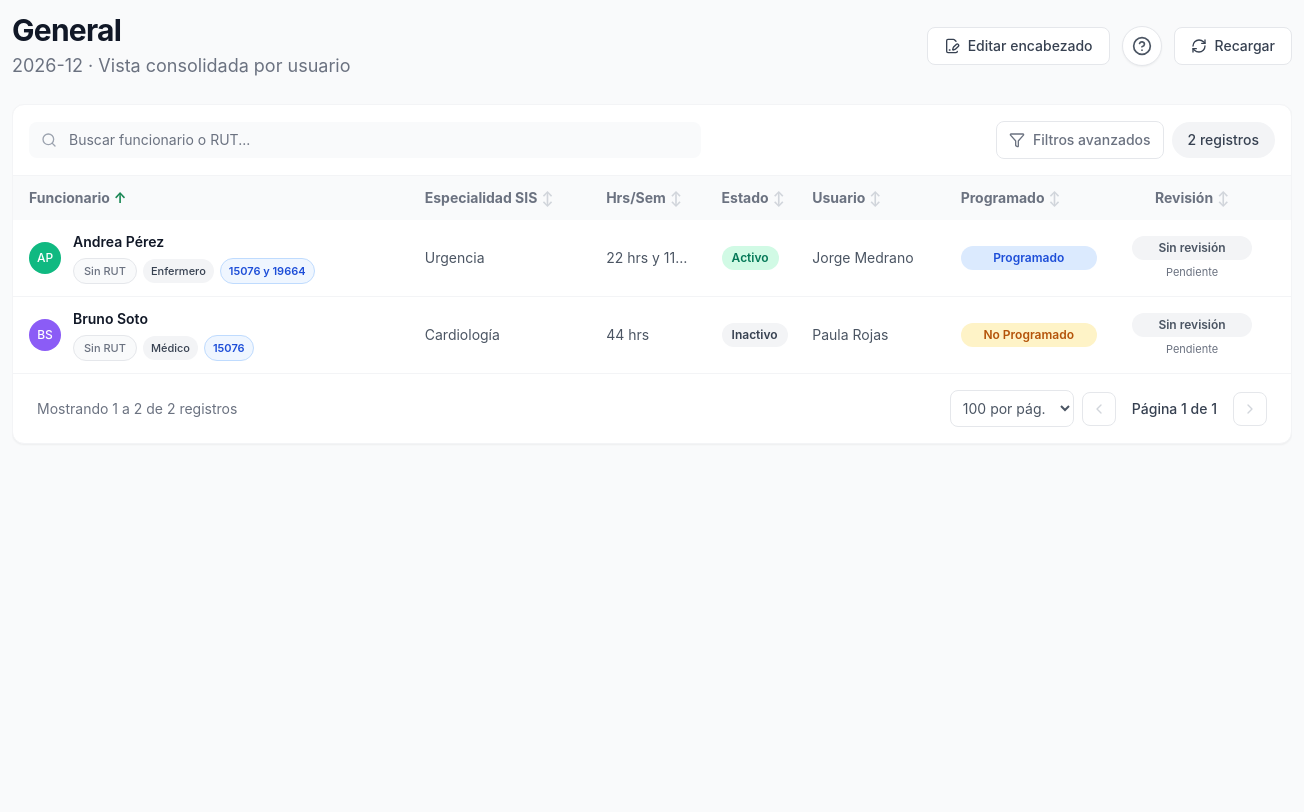
Test: General page › combines main search with advanced filters
Expected: the button "Andrea Pérez" is shown, top-left (73, 232), bottom-right (393, 252)
Expected: the button "Bruno Soto" is shown, top-left (73, 309), bottom-right (393, 329)
In the field named "buscar en general": (365, 140) top-left (29, 122), bottom-right (701, 158), type "jorge"
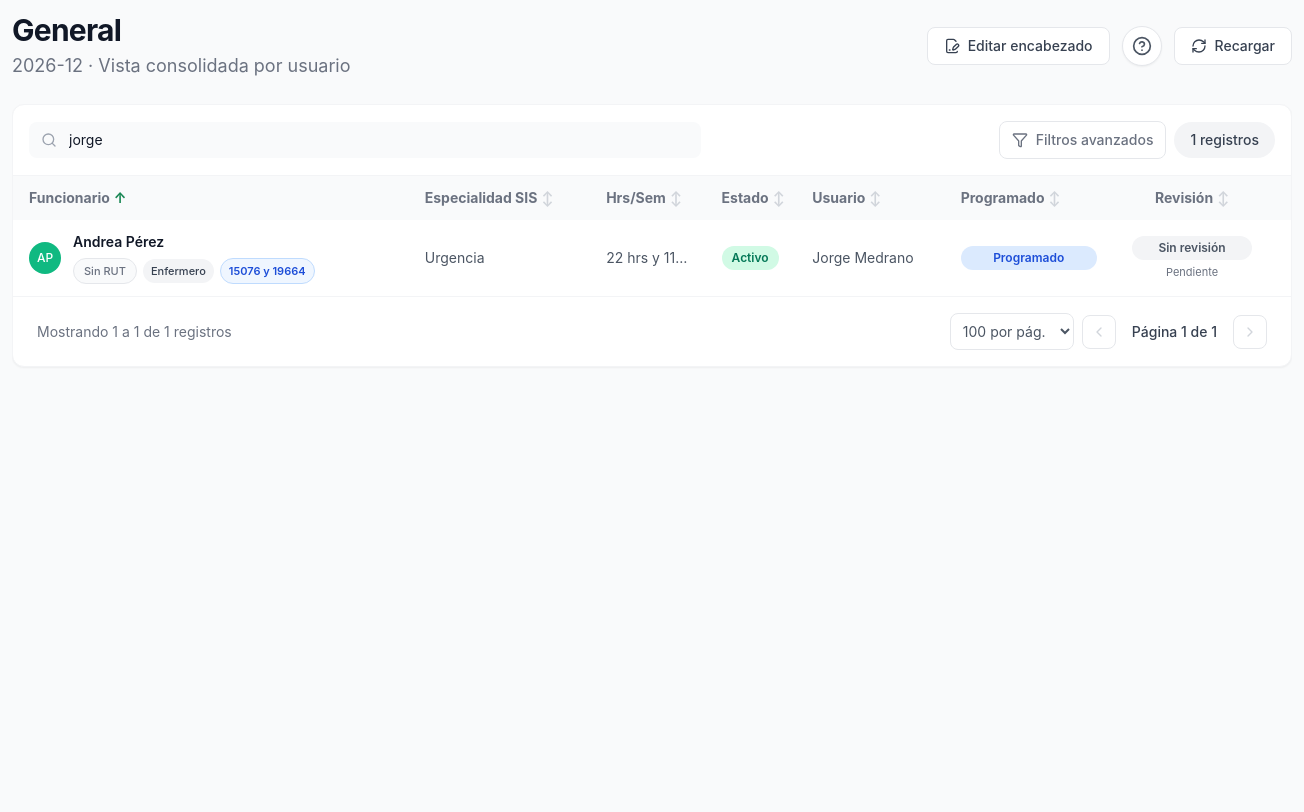
Click the button with aria-label "mostrar filtros avanzados": (1083, 140) top-left (999, 121), bottom-right (1166, 159)
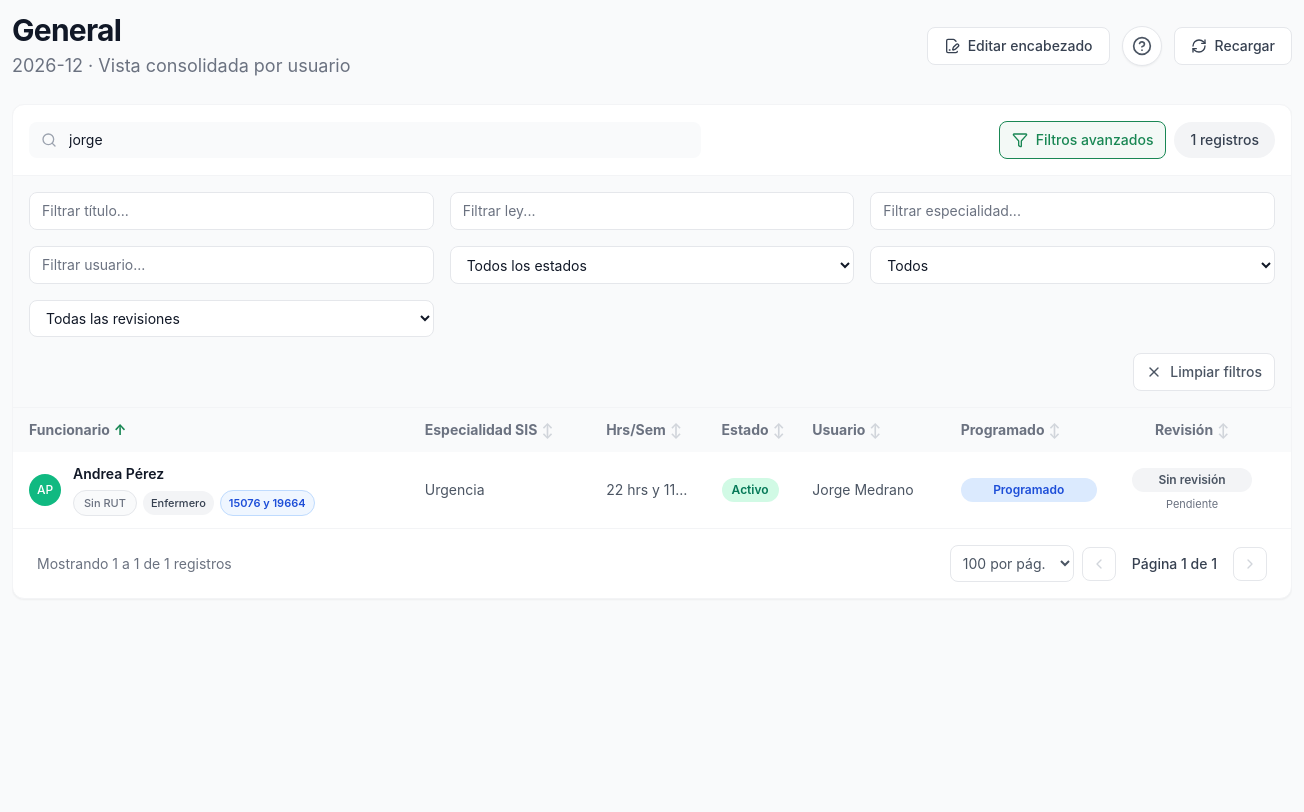
In the field with placeholder "Filtrar especialidad...": (1073, 211) top-left (870, 192), bottom-right (1275, 230), type "urgencia"
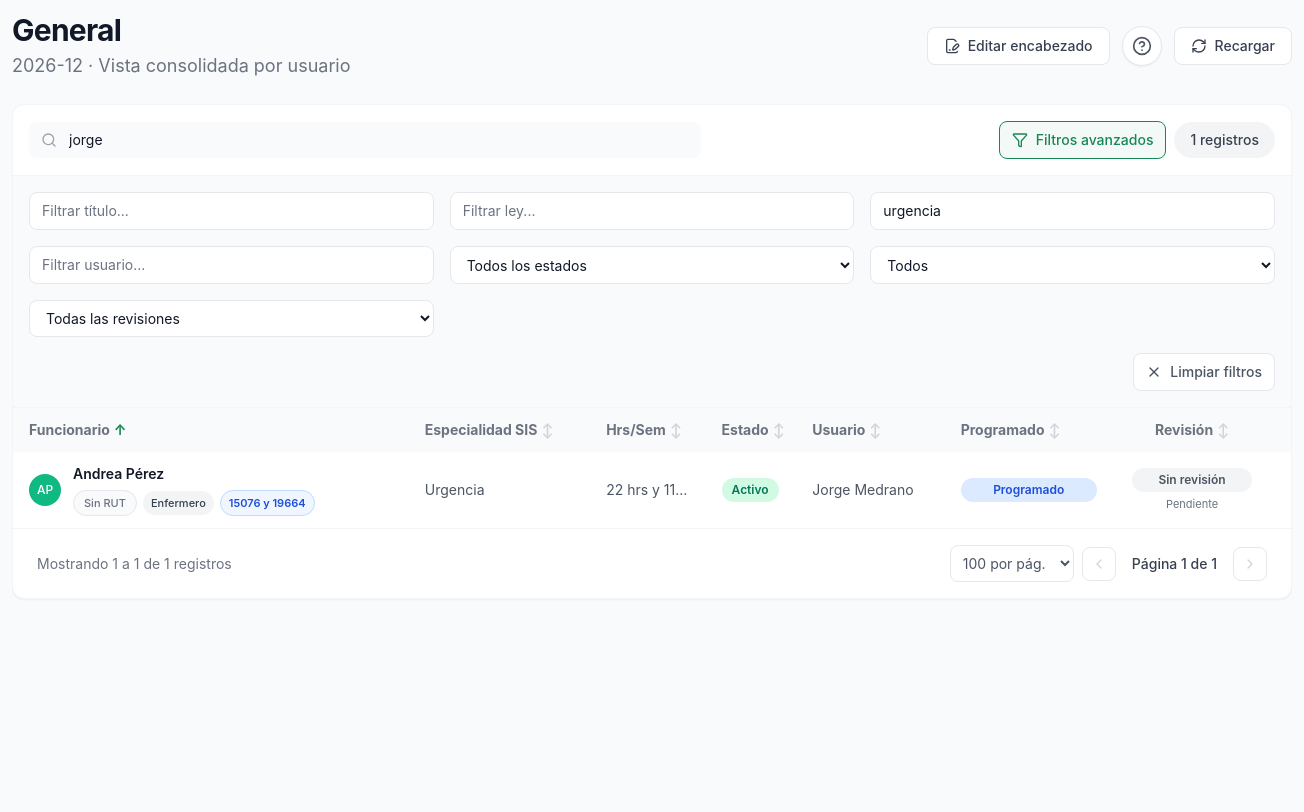
Select "Programado" in the dropdown named "filtrar por programación": (1073, 265) top-left (870, 246), bottom-right (1275, 284)
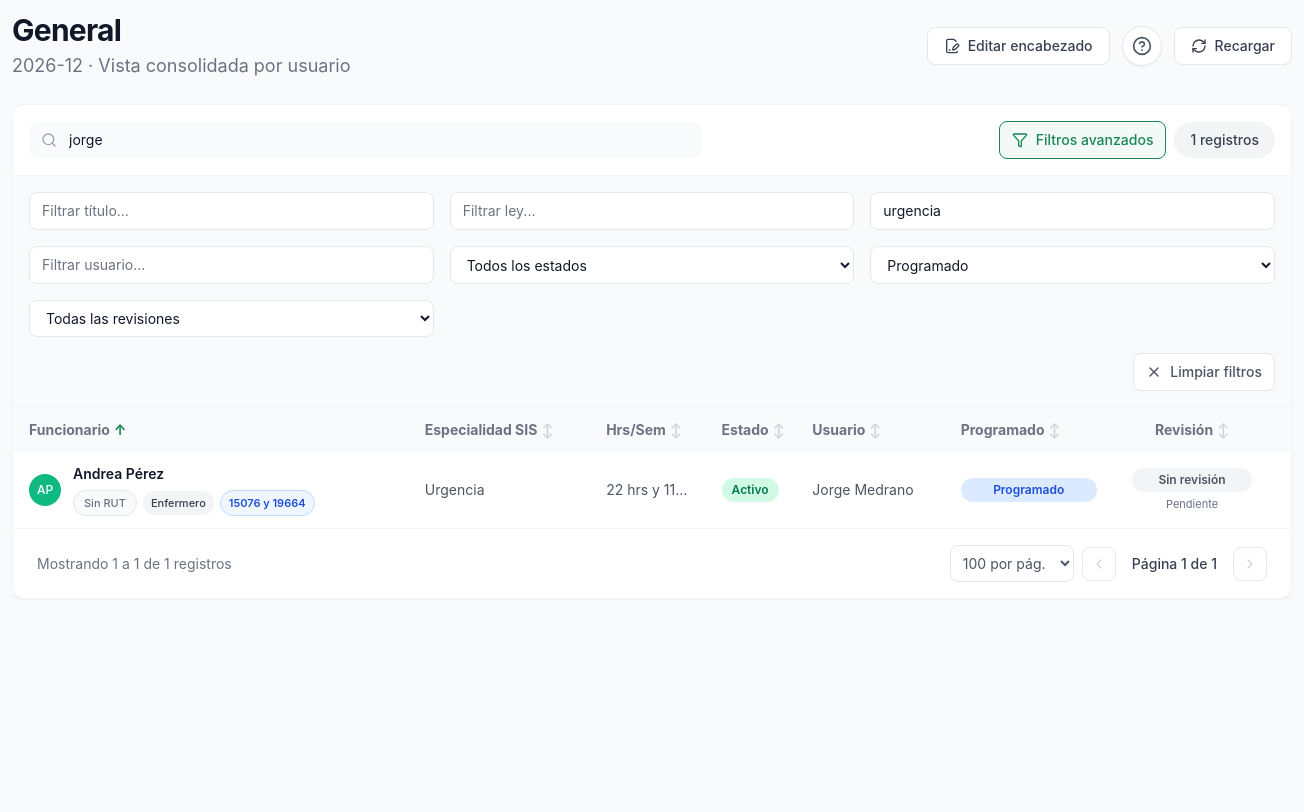
Expected: the button "Andrea Pérez" is shown, top-left (73, 464), bottom-right (393, 484)
Expected: the button "Bruno Soto" is not shown
Replace the text in the field named "buscar en general" with "paula": (365, 140) top-left (29, 122), bottom-right (701, 158)
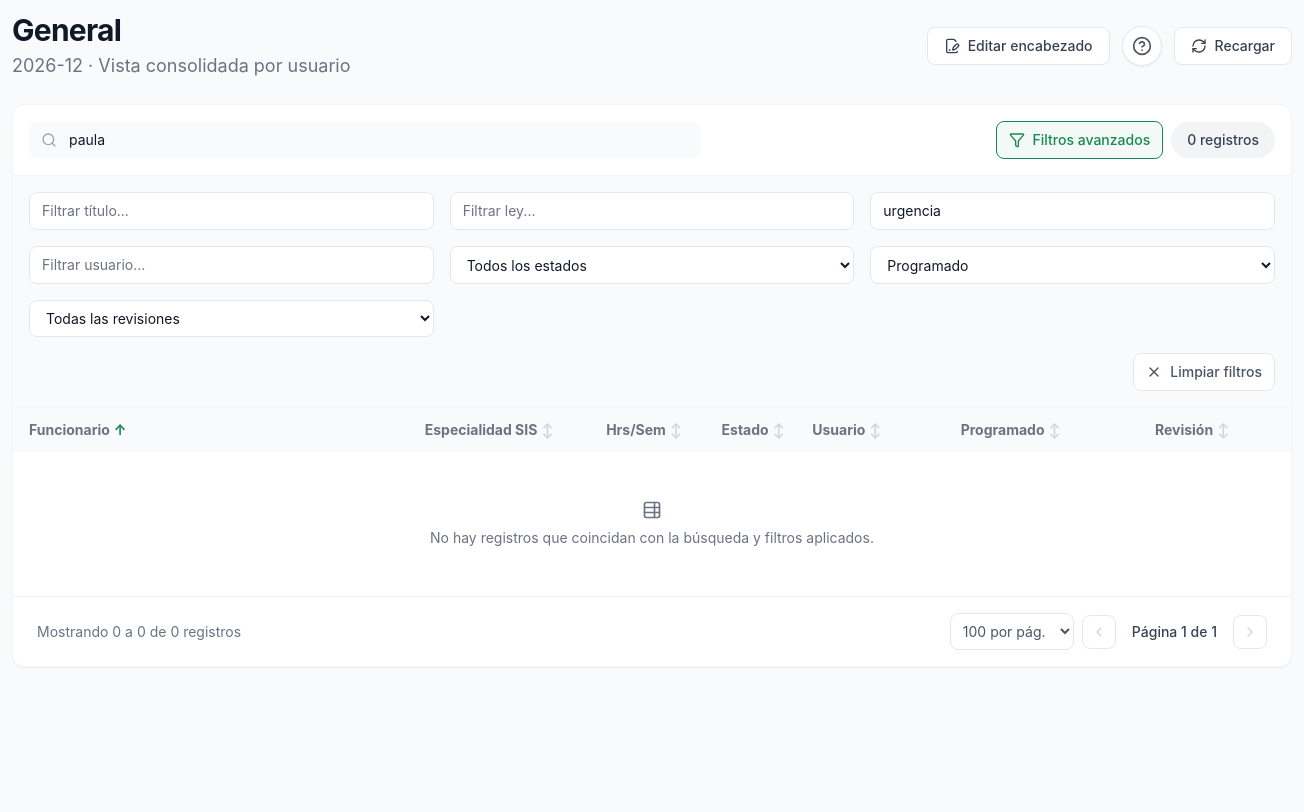
Now the text "No hay registros que coincidan" is shown, box top-left (430, 529), bottom-right (874, 546)
